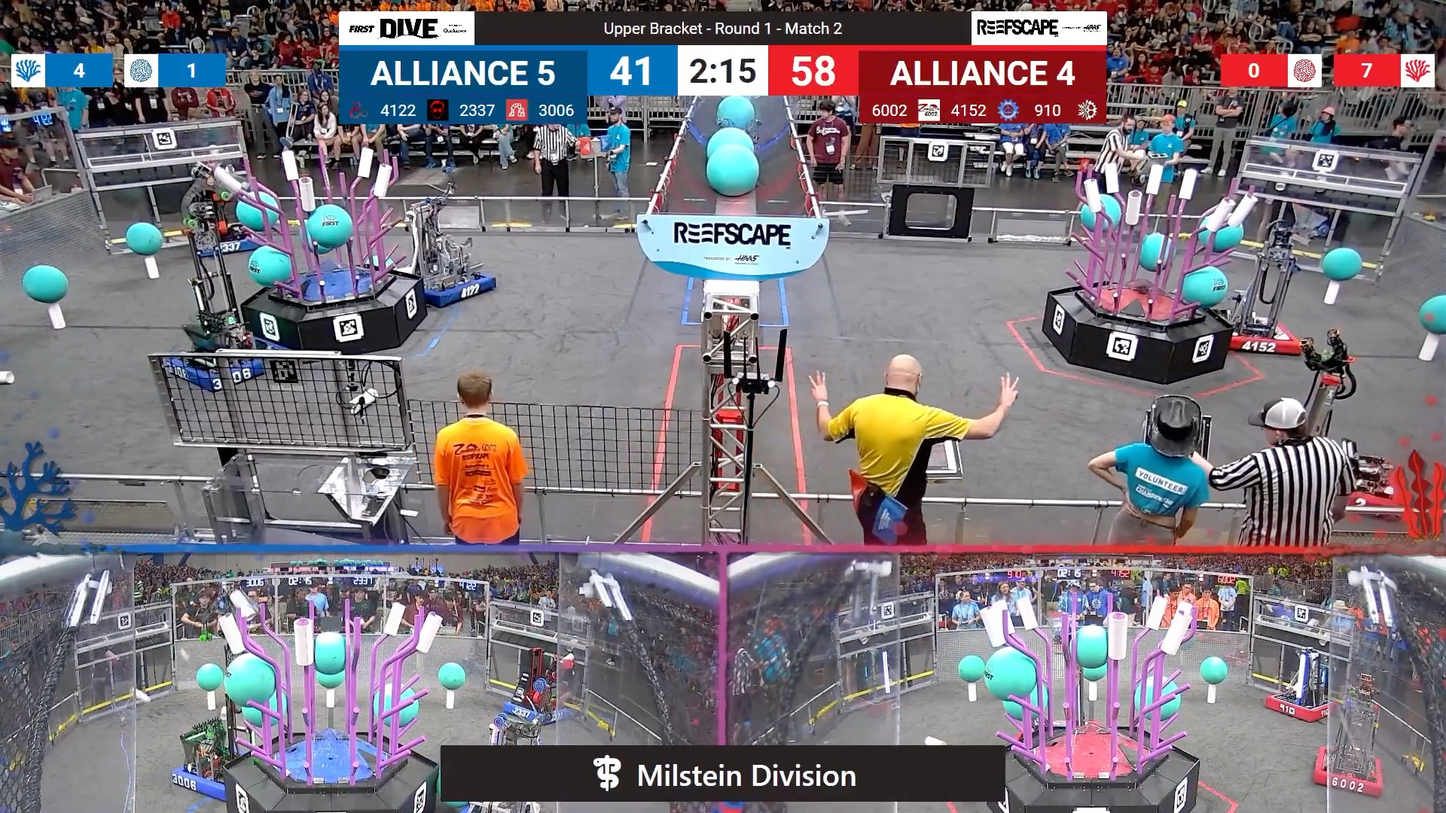bumpers: (163, 344, 278, 392), (395, 261, 504, 307), (1307, 742, 1389, 799), (1217, 310, 1309, 360), (166, 751, 244, 799), (1260, 690, 1339, 726), (498, 696, 575, 729), (185, 234, 266, 258)
